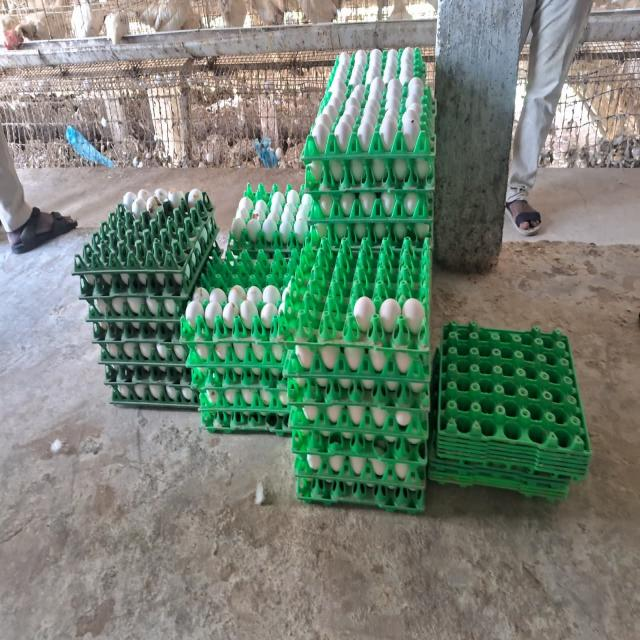egg_tray: (74, 190, 217, 408), (436, 323, 590, 479), (279, 238, 430, 381), (181, 249, 298, 433), (438, 323, 590, 461), (182, 250, 298, 427), (302, 50, 435, 186), (279, 239, 430, 353), (80, 205, 220, 325), (73, 189, 218, 297), (80, 218, 220, 325), (228, 184, 432, 255), (181, 249, 299, 368), (428, 411, 579, 500), (289, 399, 428, 489), (80, 236, 220, 321), (301, 78, 435, 163), (288, 379, 428, 460), (316, 49, 434, 145), (80, 240, 221, 319), (427, 425, 572, 500), (288, 415, 427, 489), (76, 201, 210, 275), (316, 49, 434, 130), (302, 119, 434, 189), (93, 318, 196, 407), (287, 379, 430, 443), (93, 322, 197, 408), (436, 423, 588, 481), (292, 427, 426, 489), (432, 430, 586, 483), (432, 433, 586, 485), (287, 378, 430, 433), (428, 447, 570, 500), (284, 345, 430, 394), (428, 449, 572, 498), (310, 190, 433, 247), (284, 346, 430, 393), (98, 340, 198, 408), (435, 436, 586, 481), (436, 439, 588, 481), (300, 167, 432, 215), (192, 368, 288, 434), (228, 183, 314, 255), (192, 369, 288, 433), (81, 273, 188, 326), (290, 404, 428, 444), (305, 159, 434, 197), (428, 467, 568, 501), (301, 165, 434, 199), (296, 478, 424, 513), (193, 369, 288, 415), (92, 321, 187, 365), (187, 331, 284, 374), (327, 48, 426, 90), (106, 364, 198, 409), (198, 399, 290, 434), (311, 223, 422, 251), (122, 188, 212, 217), (110, 383, 198, 410), (98, 339, 187, 365), (192, 368, 286, 391), (202, 412, 290, 435), (93, 321, 180, 344), (220, 421, 241, 429), (506, 424, 520, 436), (108, 212, 119, 225), (440, 411, 446, 430), (268, 421, 282, 429), (404, 109, 414, 119), (311, 130, 320, 140), (508, 427, 518, 435), (192, 369, 202, 377), (116, 274, 125, 282), (137, 381, 144, 389), (472, 422, 480, 429), (156, 245, 164, 252), (245, 423, 254, 429), (202, 256, 208, 265), (433, 411, 437, 423), (434, 390, 438, 402), (258, 421, 264, 429), (178, 255, 186, 261), (362, 51, 366, 63), (448, 426, 453, 435), (356, 124, 362, 131), (124, 212, 131, 218), (417, 52, 421, 62), (434, 391, 438, 401), (201, 228, 206, 234), (156, 247, 163, 251), (398, 163, 402, 169), (345, 209, 349, 215), (128, 385, 134, 389), (256, 321, 262, 325), (407, 212, 412, 216), (342, 141, 346, 146), (209, 225, 213, 230), (211, 395, 214, 401), (436, 352, 438, 359), (76, 256, 78, 263), (168, 284, 172, 287), (436, 353, 438, 359), (174, 268, 178, 271), (314, 125, 317, 128), (456, 425, 458, 429), (106, 280, 108, 284), (334, 175, 336, 178), (311, 215, 313, 218), (90, 317, 93, 319), (496, 429, 498, 432), (336, 389, 338, 392), (319, 128, 320, 133), (476, 425, 478, 427), (463, 426, 466, 427), (378, 165, 379, 167), (400, 478, 402, 479), (126, 274, 128, 275), (103, 223, 105, 224), (427, 358, 428, 359), (438, 365, 438, 365), (435, 362, 435, 364), (379, 474, 379, 475), (90, 309, 90, 310), (437, 439, 437, 439), (472, 426, 472, 428), (428, 235, 428, 236), (338, 141, 340, 141), (163, 356, 163, 358), (290, 386, 290, 388)
